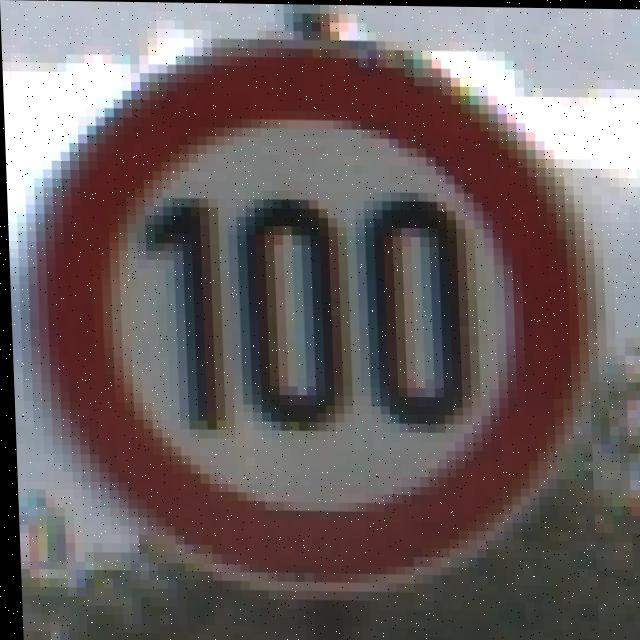speed_limit_100: (40, 19, 617, 594)
